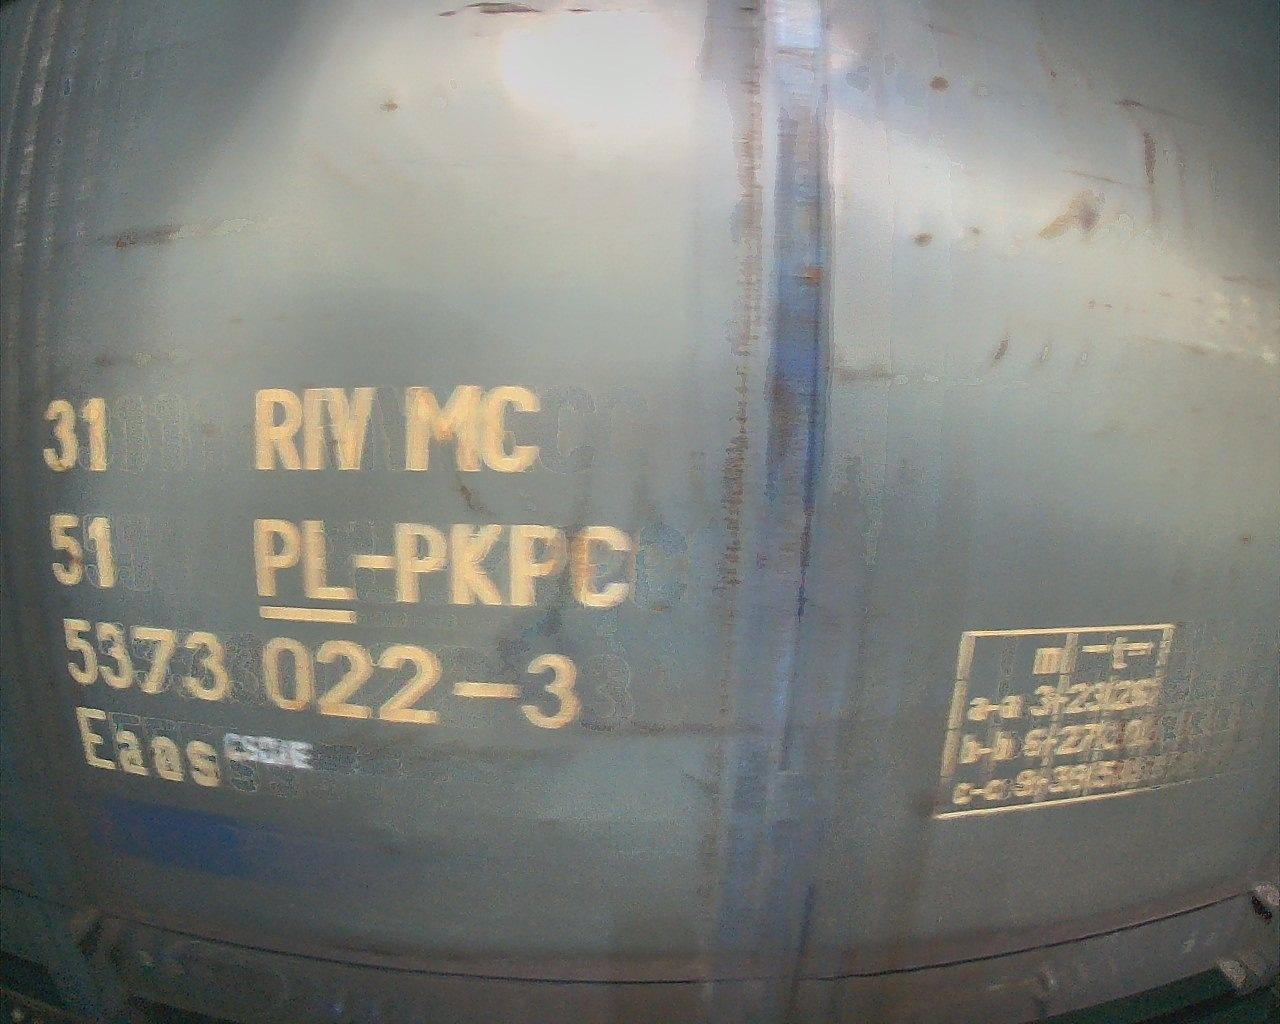UIC: (36, 382, 646, 792)
